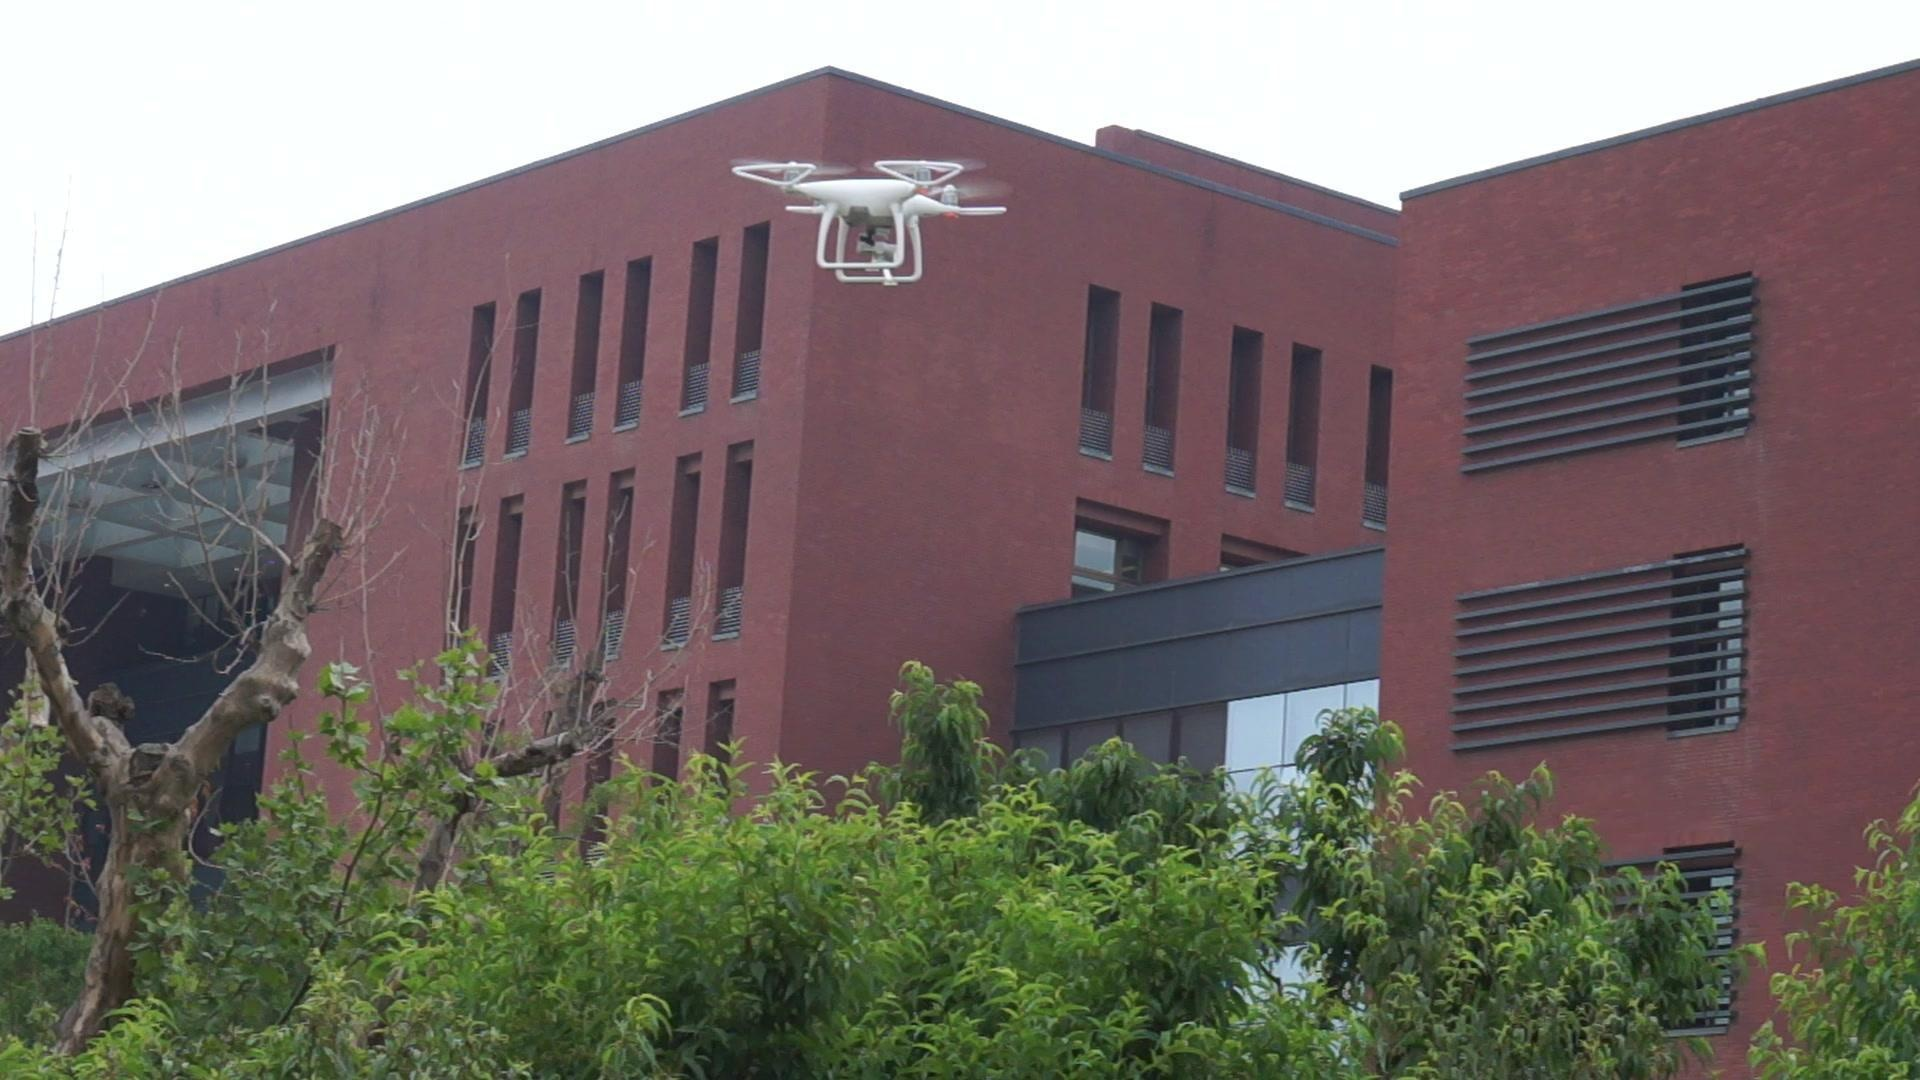UAV: (731, 160, 1007, 287)
